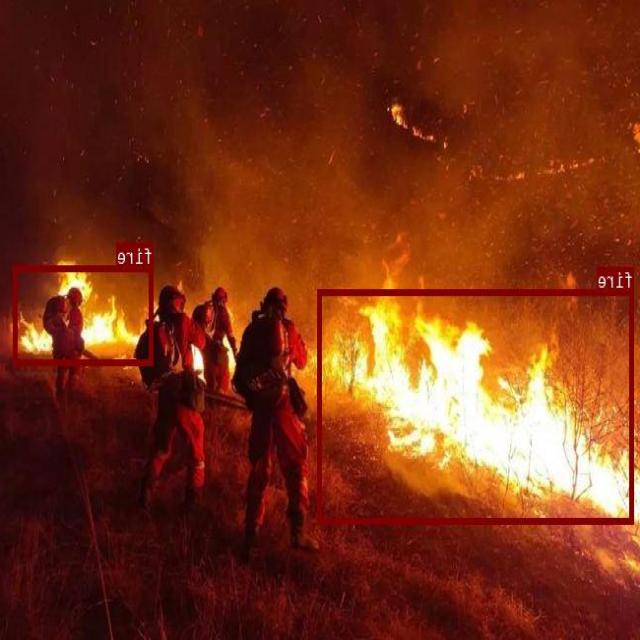fire: (319, 288, 635, 523), (14, 264, 154, 364)
